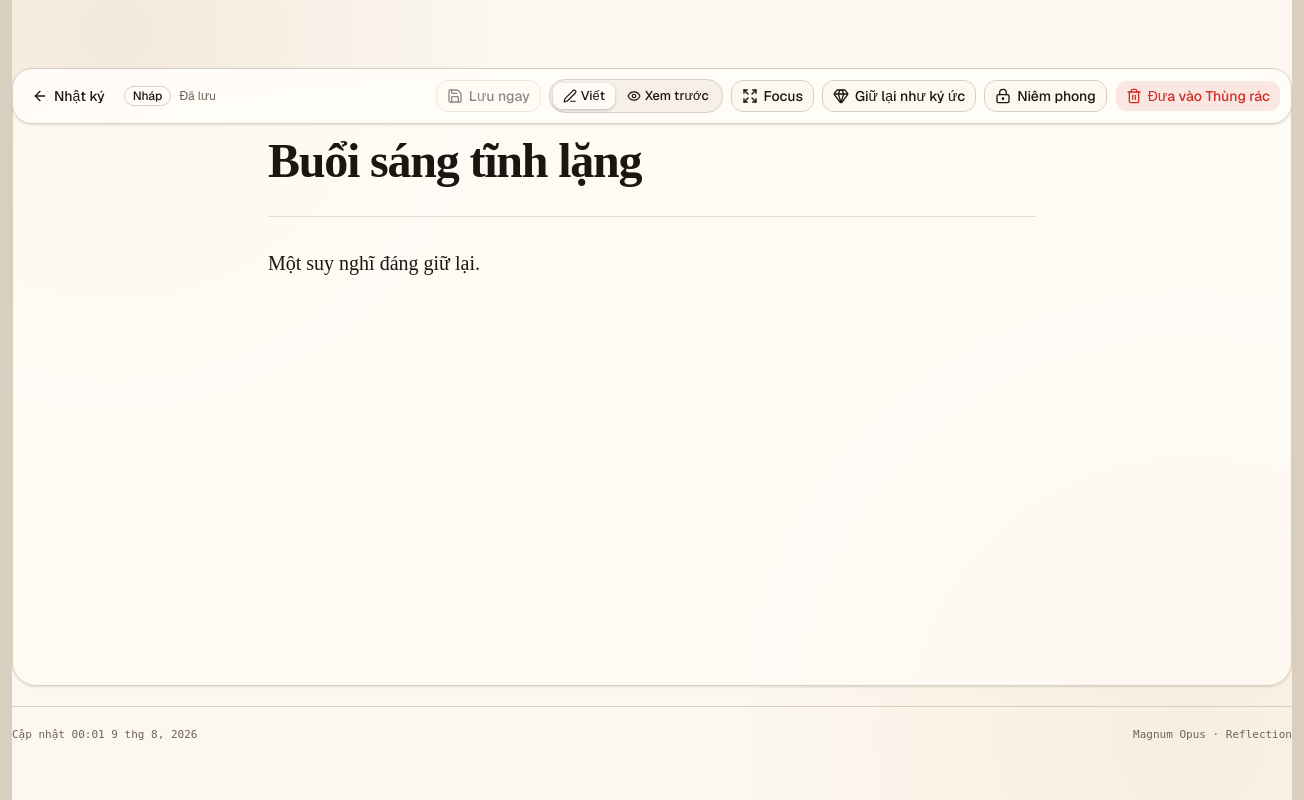
Test: JournalEditor › seals a draft entry and notifies success
The width and height of the screenshot is (1304, 800).
Click the button "Niêm phong" at (1045, 96), box top-left (984, 80), bottom-right (1107, 112)
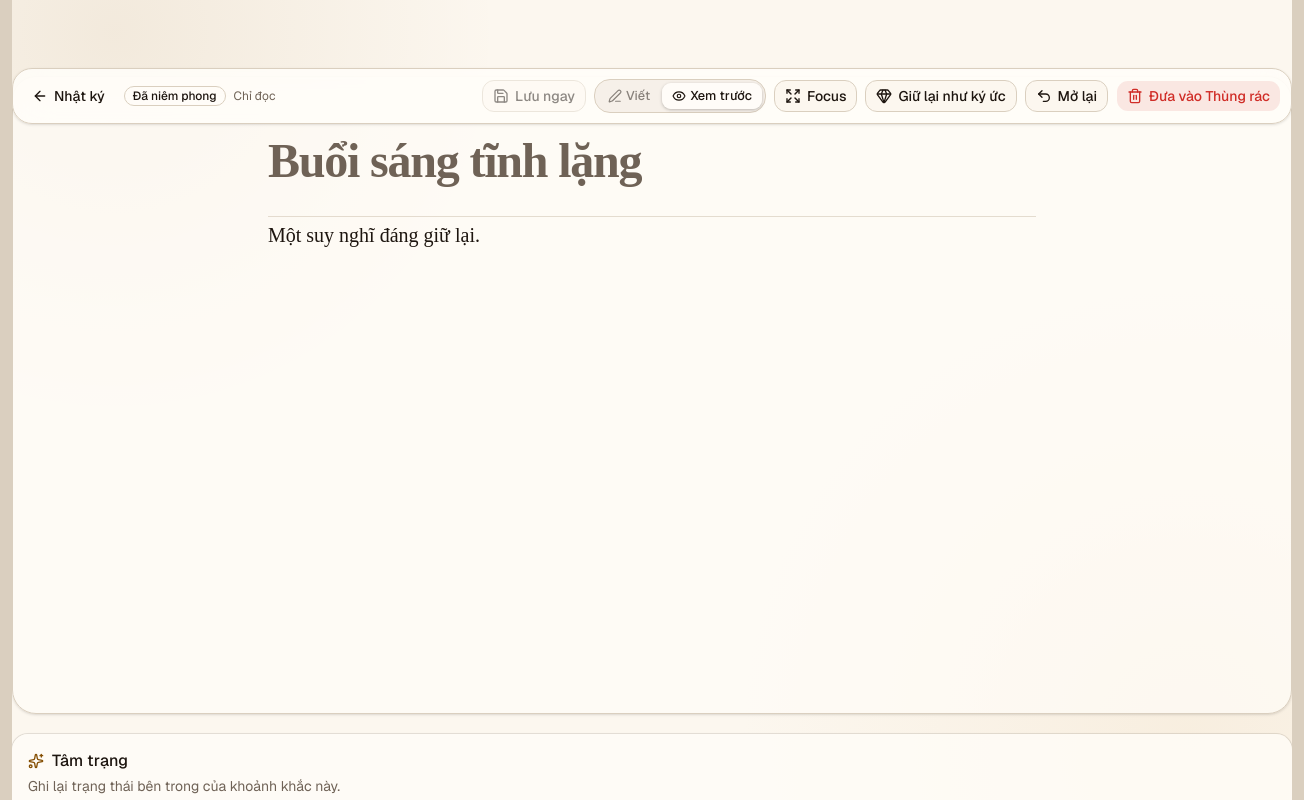
Result: the button "Mở lại" is shown at top-left (1024, 80), bottom-right (1108, 112)
